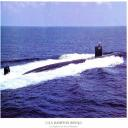submarine: (5, 43, 115, 83)
